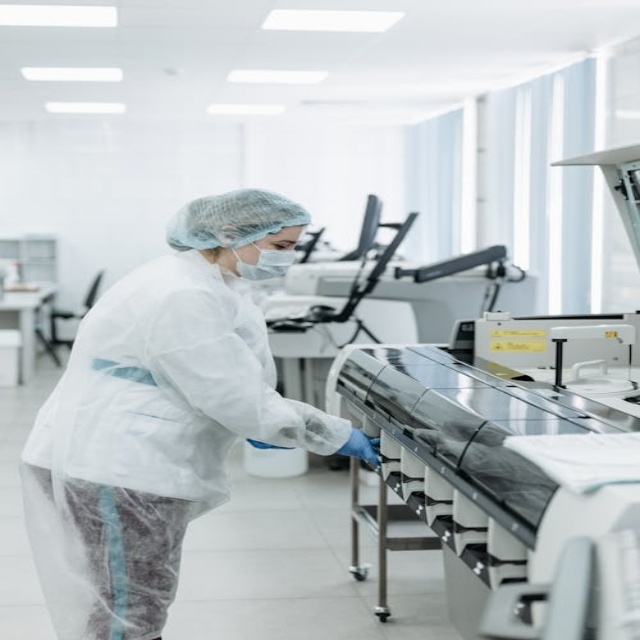Guantes: (336, 427, 382, 467), (246, 438, 293, 449)
Mascara: (230, 239, 299, 281)
Sin_gafas: (273, 242, 294, 250)
